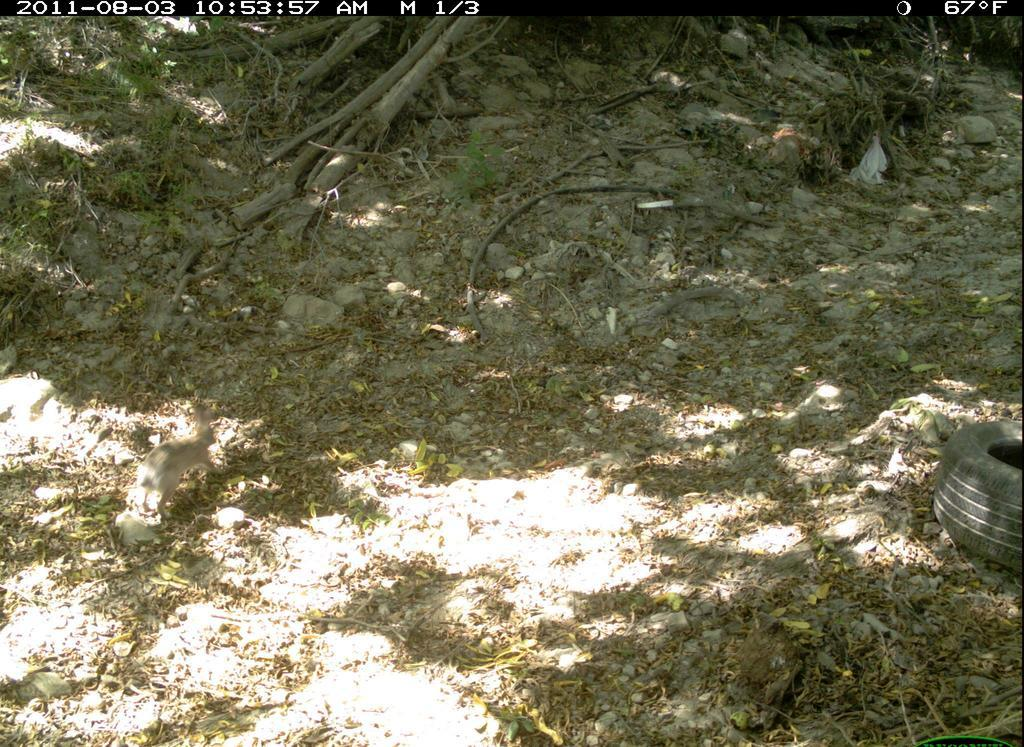rabbit: (111, 397, 226, 532)
